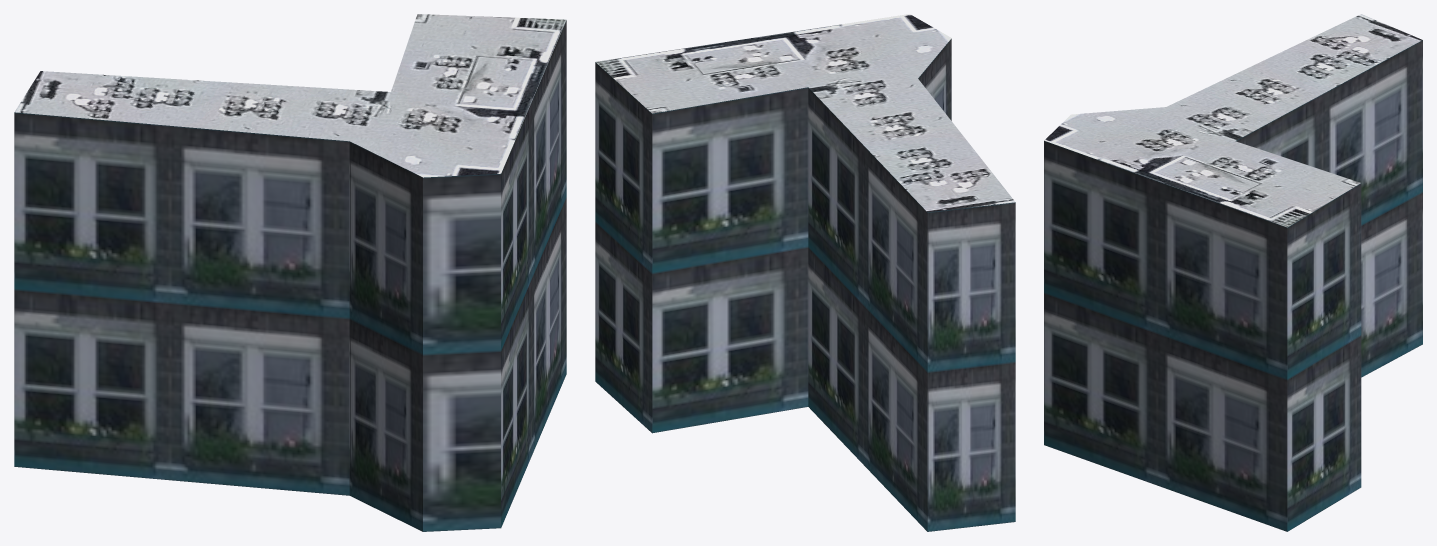
File: ResTex__4370.fbx
3 views of the same model, side by side, from view 1: azimuth 30°, elevation 25°; view 2: azimuth 150°, elevation 25°; view 3: azimuth 270°, elevation 25° (orthographic). The views are drawn at different scales.
Parts seen in each view (by area): view 1: CityEngineMaterial_11_m, CityEngineMaterial_8_m; view 2: CityEngineMaterial_11_m, CityEngineMaterial_8_m; view 3: CityEngineMaterial_11_m, CityEngineMaterial_8_m.
Part boxes in pixels (bbox=[...]): CityEngineMaterial_11_m: bbox=[14, 20, 566, 531]; CityEngineMaterial_8_m: bbox=[14, 14, 566, 177]; CityEngineMaterial_11_m: bbox=[595, 38, 1015, 531]; CityEngineMaterial_8_m: bbox=[596, 14, 1015, 212]; CityEngineMaterial_11_m: bbox=[1044, 40, 1422, 531]; CityEngineMaterial_8_m: bbox=[1044, 14, 1422, 227].
Size of the model in its own units: 9.02 by 6 by 6.76.
2 materials, 2 textured.
